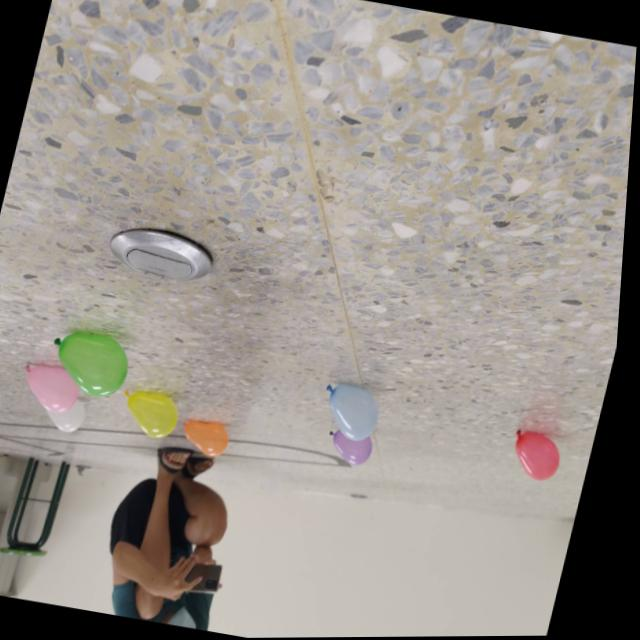other: (46, 325, 140, 402), (321, 381, 391, 446), (20, 360, 89, 415), (120, 389, 188, 443), (181, 418, 238, 461), (326, 429, 382, 467), (45, 396, 94, 435)
red: (508, 429, 574, 486)
